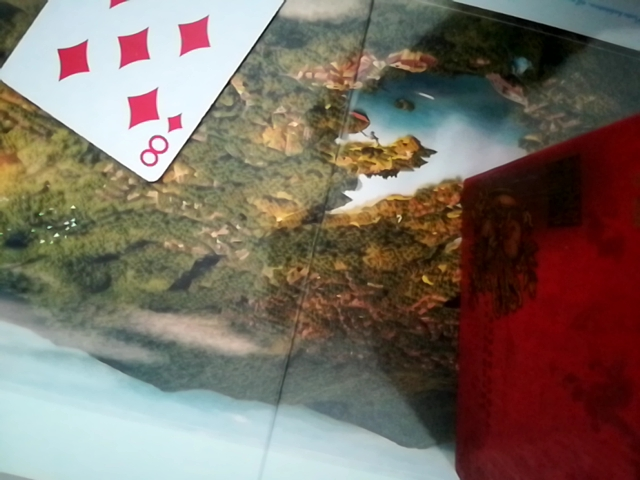fk 8: (0, 0, 293, 184)
